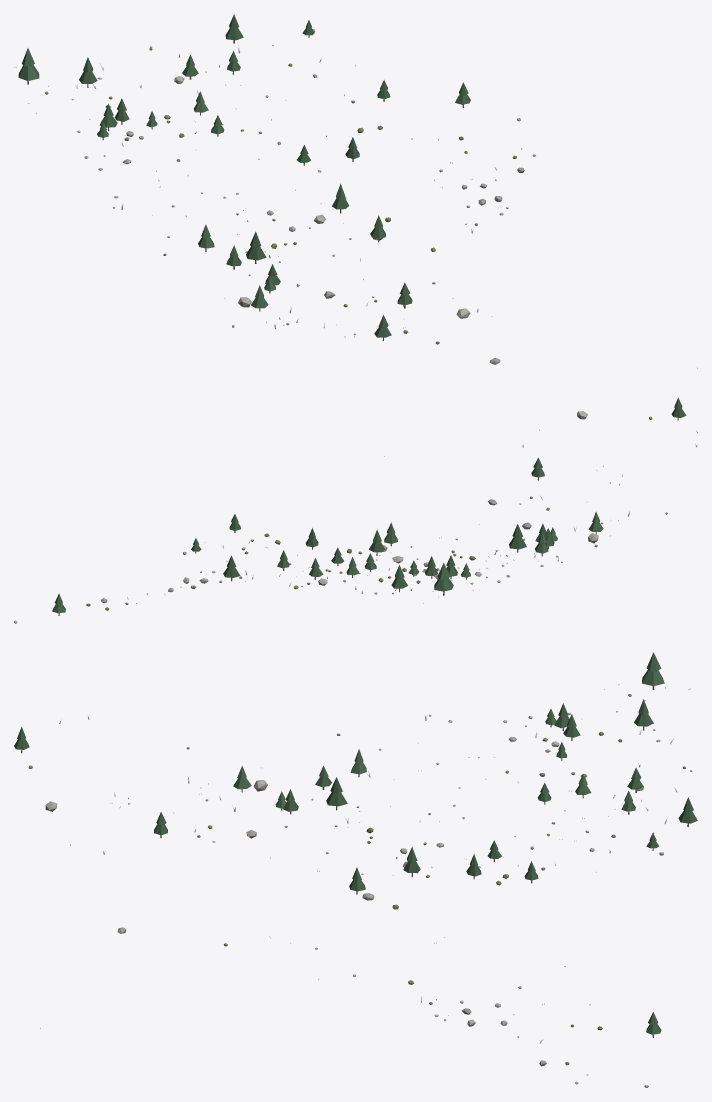
Rendered from coast_land_scatter_c11_16_lod1.glb.
3 renders of one model, top to bottom at view 1: azimuth 30°, elevation 25°; view 2: azimuth 150°, elevation 25°; view 3: azimuth 270°, elevation 25°, orthographic. The views are drawn at different scales.
Visible parts, largest first — view 1: coast_land_scatter_c11_16_lod1; view 2: coast_land_scatter_c11_16_lod1; view 3: coast_land_scatter_c11_16_lod1.
Boxes of the visible parts, x1,y1,x2,y2 form: coast_land_scatter_c11_16_lod1: [14, 14, 697, 368]; coast_land_scatter_c11_16_lod1: [14, 397, 697, 623]; coast_land_scatter_c11_16_lod1: [14, 652, 697, 1087].
Size of the model in its own units: 231 by 83.91 by 261.
